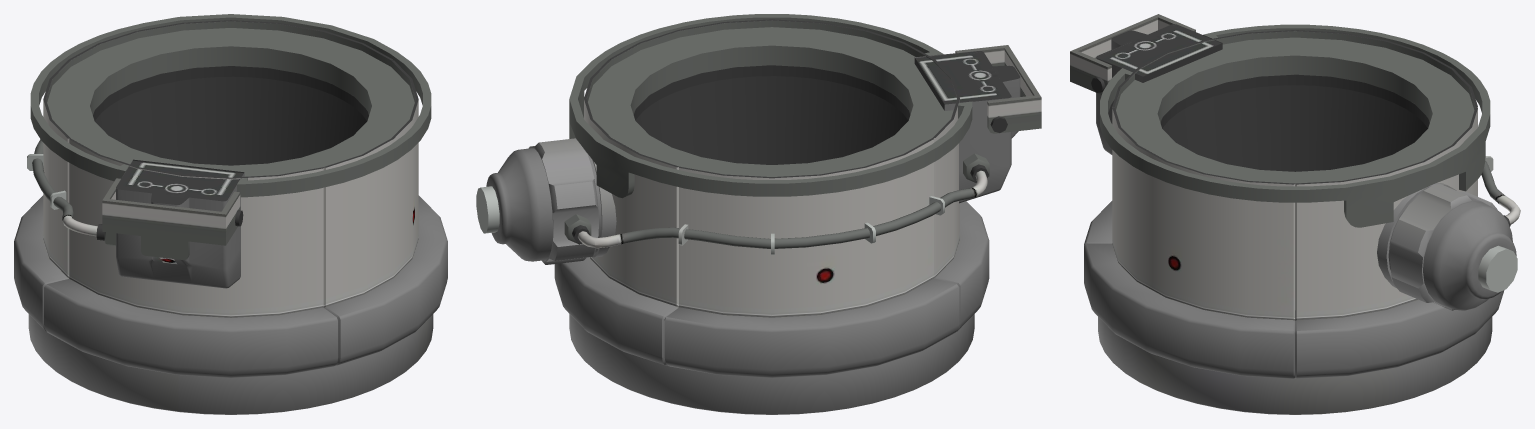
Rendered from gel_reflection.glb.
3 views of the same model, side by side, from view 1: azimuth 30°, elevation 25°; view 2: azimuth 150°, elevation 25°; view 3: azimuth 270°, elevation 25° (orthographic). The views are drawn at different scales.
Parts seen in each view (by area): view 1: EDITOR_paint_dropper.004; view 2: EDITOR_paint_dropper.004; view 3: EDITOR_paint_dropper.004.
Part boxes in pixels (bbox=[...]): EDITOR_paint_dropper.004: bbox=[14, 14, 447, 414]; EDITOR_paint_dropper.004: bbox=[476, 14, 1041, 414]; EDITOR_paint_dropper.004: bbox=[1070, 14, 1520, 414].
Bounding box in the file's own units: 1.52 × 0.894 × 1.54.
1 material, 1 textured.
